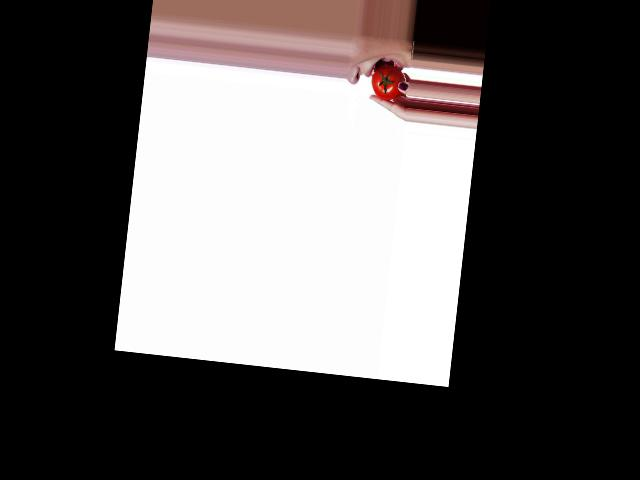tomato: (369, 64, 407, 102)
